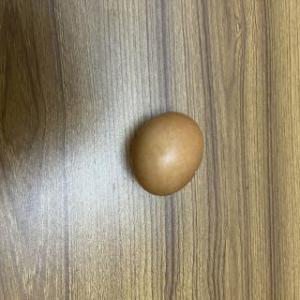egg: (128, 106, 210, 200)
